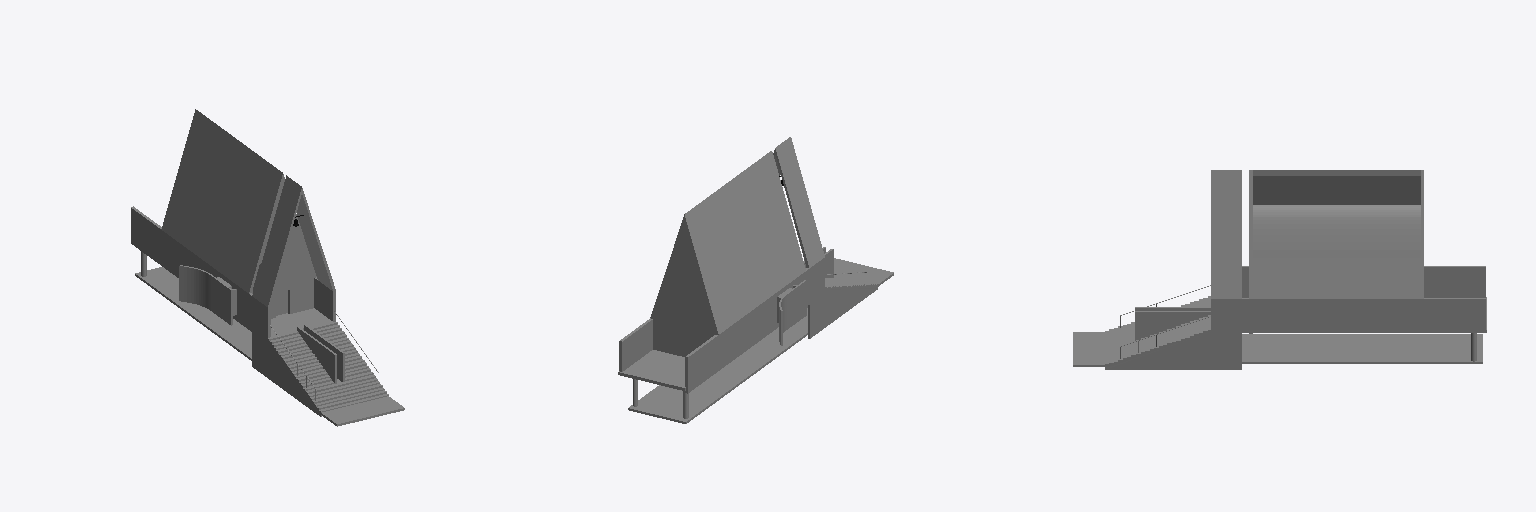
3 views of the same model, side by side, from view 1: azimuth 30°, elevation 25°; view 2: azimuth 150°, elevation 25°; view 3: azimuth 270°, elevation 25° (orthographic).
Visible parts, largest first — view 1: Obj3d66_[number redacted]_16_787, Obj3d66_[number redacted]_6_58, Obj3d66_[number redacted]_15_520, Obj3d66_[number redacted]_14_34, Obj3d66_[number redacted]_21_366, Obj3d66_[number redacted]_24_675, Obj3d66_[number redacted]_17_820, Obj3d66_[number redacted]_20_82, Obj3d66_[number redacted]_25_82, Obj3d66_[number redacted]_11_259, Obj3d66_[number redacted]_18_254, Obj3d66_[number redacted]_8_48 (+1 smaller); view 2: Obj3d66_[number redacted]_16_787, Obj3d66_[number redacted]_22_405, Obj3d66_[number redacted]_24_675, Obj3d66_[number redacted]_15_520, Obj3d66_[number redacted]_14_34, Obj3d66_[number redacted]_18_254, Obj3d66_[number redacted]_20_82, Obj3d66_[number redacted]_10_673, Obj3d66_[number redacted]_17_820, Obj3d66_[number redacted]_25_82, Obj3d66_[number redacted]_19_387, Obj3d66_[number redacted]_6_58; view 3: Obj3d66_[number redacted]_13_450, Obj3d66_[number redacted]_10_673, Obj3d66_[number redacted]_24_675, Obj3d66_[number redacted]_16_787, Obj3d66_[number redacted]_11_259, Obj3d66_[number redacted]_5_612, Obj3d66_[number redacted]_6_58, Obj3d66_[number redacted]_15_520, Obj3d66_[number redacted]_7_477, Obj3d66_[number redacted]_25_82, Obj3d66_[number redacted]_18_254.
Part boxes in pixels (left/top/right/bottom): Obj3d66_[number redacted]_16_787: left=163, top=110, right=282, bottom=293; Obj3d66_[number redacted]_6_58: left=268, top=321, right=388, bottom=412; Obj3d66_[number redacted]_15_520: left=131, top=206, right=270, bottom=336; Obj3d66_[number redacted]_14_34: left=252, top=175, right=301, bottom=306; Obj3d66_[number redacted]_21_366: left=252, top=180, right=313, bottom=318; Obj3d66_[number redacted]_24_675: left=135, top=267, right=251, bottom=360; Obj3d66_[number redacted]_17_820: left=179, top=265, right=232, bottom=325; Obj3d66_[number redacted]_20_82: left=252, top=333, right=321, bottom=416; Obj3d66_[number redacted]_25_82: left=321, top=396, right=404, bottom=426; Obj3d66_[number redacted]_11_259: left=297, top=188, right=335, bottom=291; Obj3d66_[number redacted]_18_254: left=271, top=308, right=331, bottom=335; Obj3d66_[number redacted]_8_48: left=297, top=326, right=336, bottom=383; Obj3d66_[number redacted]_16_787: left=686, top=151, right=805, bottom=333; Obj3d66_[number redacted]_22_405: left=650, top=213, right=719, bottom=366; Obj3d66_[number redacted]_24_675: left=628, top=308, right=807, bottom=423; Obj3d66_[number redacted]_15_520: left=685, top=258, right=824, bottom=386; Obj3d66_[number redacted]_14_34: left=775, top=137, right=824, bottom=268; Obj3d66_[number redacted]_18_254: left=618, top=350, right=685, bottom=390; Obj3d66_[number redacted]_20_82: left=808, top=286, right=877, bottom=338; Obj3d66_[number redacted]_10_673: left=619, top=318, right=652, bottom=371; Obj3d66_[number redacted]_17_820: left=779, top=280, right=806, bottom=345; Obj3d66_[number redacted]_25_82: left=834, top=258, right=893, bottom=286; Obj3d66_[number redacted]_19_387: left=685, top=287, right=824, bottom=393; Obj3d66_[number redacted]_6_58: left=824, top=273, right=877, bottom=289; Obj3d66_[number redacted]_13_450: left=1253, top=205, right=1420, bottom=298; Obj3d66_[number redacted]_10_673: left=1211, top=298, right=1485, bottom=329; Obj3d66_[number redacted]_24_675: left=1242, top=334, right=1482, bottom=363; Obj3d66_[number redacted]_16_787: left=1253, top=170, right=1420, bottom=204; Obj3d66_[number redacted]_11_259: left=1211, top=170, right=1241, bottom=298; Obj3d66_[number redacted]_5_612: left=1105, top=331, right=1241, bottom=369; Obj3d66_[number redacted]_6_58: left=1105, top=296, right=1212, bottom=365; Obj3d66_[number redacted]_15_520: left=1242, top=266, right=1485, bottom=296; Obj3d66_[number redacted]_7_477: left=1135, top=311, right=1210, bottom=340; Obj3d66_[number redacted]_25_82: left=1073, top=332, right=1104, bottom=366; Obj3d66_[number redacted]_18_254: left=1213, top=297, right=1486, bottom=332.
Bounding box in the file's own units: 8317 × 15894 × 32611.
Materials: 4 (1 with a texture image).